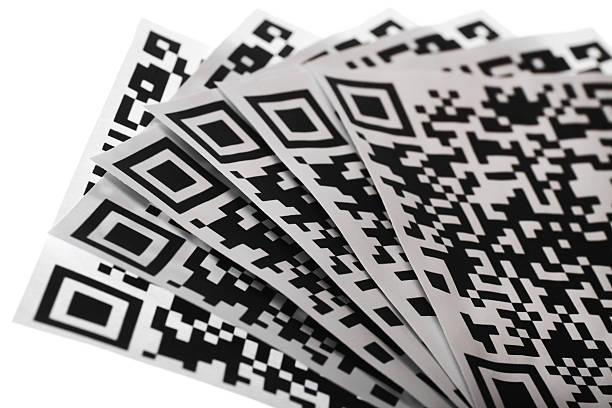qr_code: (324, 73, 612, 408), (114, 136, 448, 400), (70, 198, 406, 408), (166, 99, 404, 327), (34, 263, 376, 408), (245, 89, 436, 316)
